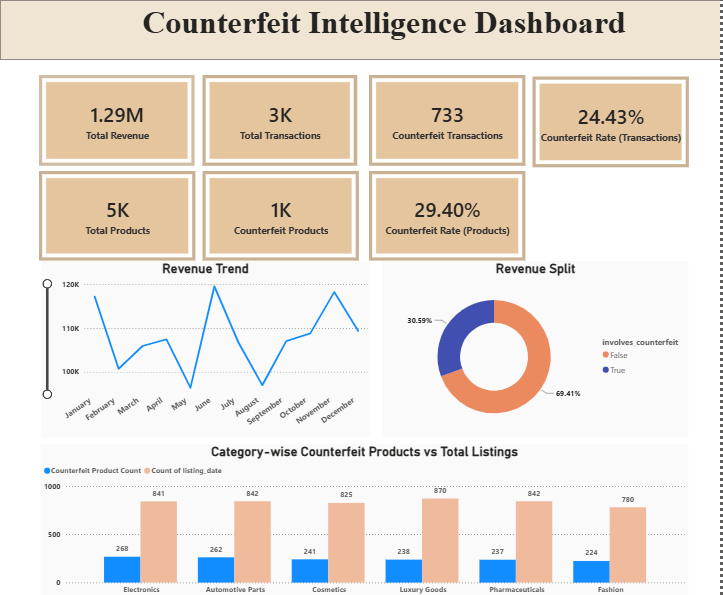

Layout of this report page (visuals, bound fields, positions):
{"tool":"powerbi","page":{"name":"Executive Summary","canvas":[1200,1000],"ordinal":0},"visuals":[{"type":"textbox","box":[0,0,1280.4,100.2],"z":0},{"type":"cardVisual","fields":{"Data":["transcation.Total Transactions"]},"box":[337.2,124.1,257.7,151.1],"z":1000},{"type":"cardVisual","fields":{"Data":["transcation.Total Revenue"]},"box":[65.2,124.1,259.3,151.1],"z":2000},{"type":"cardVisual","fields":{"Data":["transcation.Counterfeit Transactions"]},"box":[614,125.7,260.9,151.1],"z":3000},{"type":"cardVisual","fields":{"Data":["transcation.Counterfeit Rate (Transactions)"]},"box":[887.6,127.2,260.9,151.1],"z":4000},{"type":"cardVisual","fields":{"Data":["product.Total Products"]},"box":[65.2,284.7,260.9,149.5],"z":5000},{"type":"cardVisual","fields":{"Data":["product.Counterfeit Products"]},"box":[337.2,284.7,260.9,149.5],"z":6000},{"type":"cardVisual","fields":{"Data":["product.Counterfeit Rate (Products)"]},"box":[614.3,284.8,260.8,149.3],"z":7000},{"type":"lineChart","title":"Revenue Trend","fields":{"Category":["transcation.transaction_date.Variation.Date Hierarchy.Month"],"Y":["Sum(transcation.total_amount)"]},"box":[66.3,435.2,550.1,293.8],"z":8000},{"type":"donutChart","title":"Revenue Split","fields":{"Category":["transcation.involves_counterfeit"],"Y":["Sum(transcation.total_amount)"]},"box":[638.5,435.2,510.3,293.8],"z":9000},{"type":"clusteredColumnChart","title":"Category-wise Counterfeit Products vs Total Listings","fields":{"Category":["product.category"],"Y":["product.Counterfeit Product Count","CountNonNull(product.listing_date)"]},"box":[68.5,740.1,1080.3,260.7],"z":10000}]}

Visuals, with their boxes in screenshot pixels (x1, y1, x2, y2), scaled from the page's 1200x1000 canvas onto the 723x595 screenshot:
textbox: 0, 0, 722, 60
cardVisual - transcation.Total Transactions: 203, 74, 358, 164
cardVisual - transcation.Total Revenue: 39, 74, 196, 164
cardVisual - transcation.Counterfeit Transactions: 370, 75, 527, 165
cardVisual - transcation.Counterfeit Rate (Transactions): 535, 76, 692, 166
cardVisual - product.Total Products: 39, 169, 196, 258
cardVisual - product.Counterfeit Products: 203, 169, 360, 258
cardVisual - product.Counterfeit Rate (Products): 370, 169, 527, 258
"Revenue Trend" lineChart: 40, 259, 371, 434
"Revenue Split" donutChart: 385, 259, 692, 434
"Category-wise Counterfeit Products vs Total Listings" clusteredColumnChart: 41, 440, 692, 594
